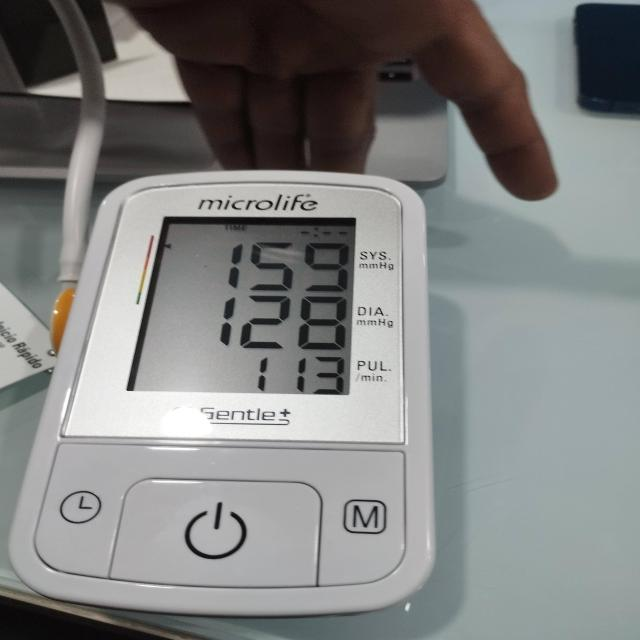bp: (5, 172, 437, 622)
